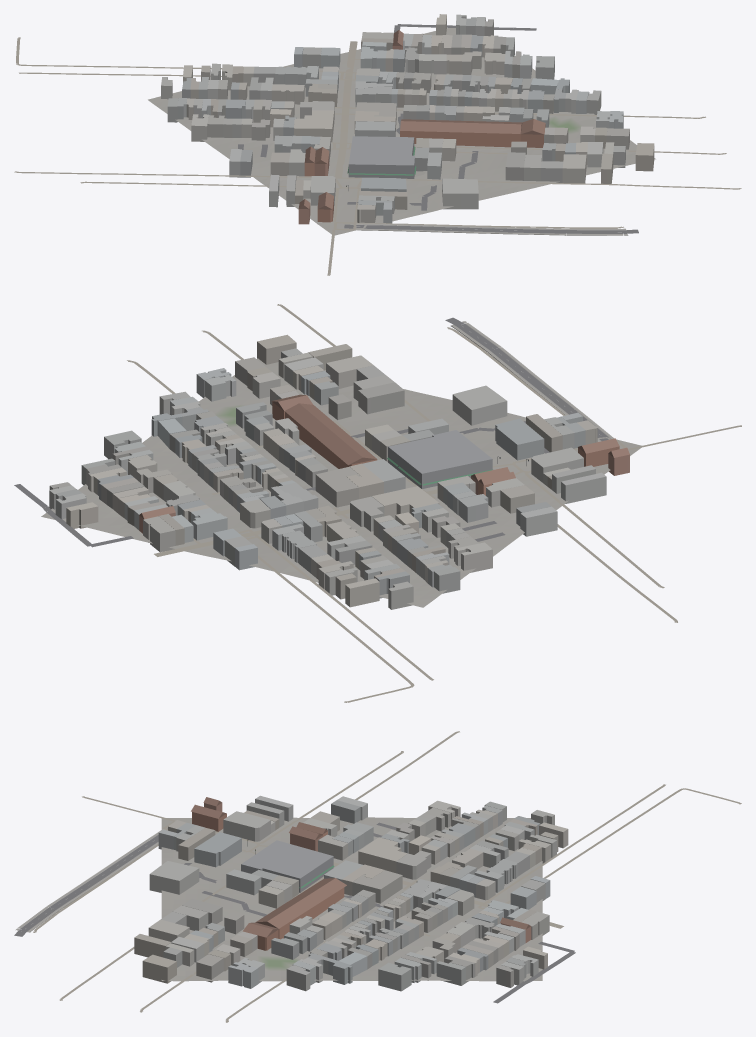
The model's file is tile_-6_-5.glb.
3 views of the same model, one above another, from view 1: azimuth 30°, elevation 25°; view 2: azimuth 150°, elevation 25°; view 3: azimuth 270°, elevation 25° (orthographic). The views are drawn at different scales.
Visible parts, largest first — view 1: buildings, terrain, paths, roads, sidewalks; view 2: buildings, terrain, paths, roads, sidewalks; view 3: buildings, terrain, paths, roads, sidewalks.
Boxes of the visible parts, <box> form: buildings: <box>161,14,654,224</box>; terrain: <box>148,28,655,235</box>; paths: <box>14,37,741,275</box>; roads: <box>238,24,638,233</box>; sidewalks: <box>355,223,628,235</box>; buildings: <box>49,334,629,609</box>; terrain: <box>41,358,641,607</box>; paths: <box>127,304,741,702</box>; roads: <box>14,317,608,547</box>; sidewalks: <box>451,321,614,441</box>; buildings: <box>134,795,568,991</box>; terrain: <box>161,817,542,981</box>; paths: <box>33,731,741,1022</box>; roads: <box>14,822,575,1003</box>; sidewalks: <box>15,829,165,932</box>.
Size of the model in its own units: 459 by 16.87 by 489.
